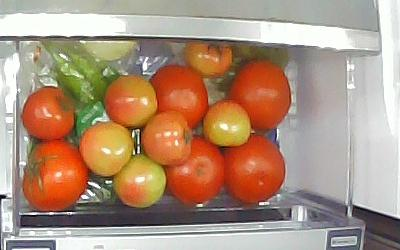tomato: (22, 139, 88, 212), (228, 59, 291, 132), (225, 133, 287, 205), (166, 135, 224, 207), (149, 63, 209, 132), (20, 86, 75, 141), (79, 122, 134, 177), (104, 74, 158, 129), (113, 153, 167, 208), (141, 110, 193, 167), (203, 99, 250, 148), (184, 42, 234, 78)
